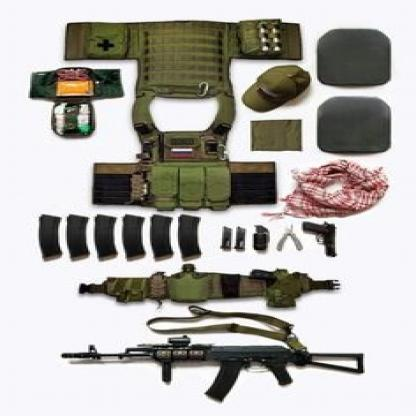Grenade: (252, 223, 273, 252)
Gun: (60, 334, 366, 405)
Pistol: (249, 263, 301, 308), (299, 219, 341, 258)
